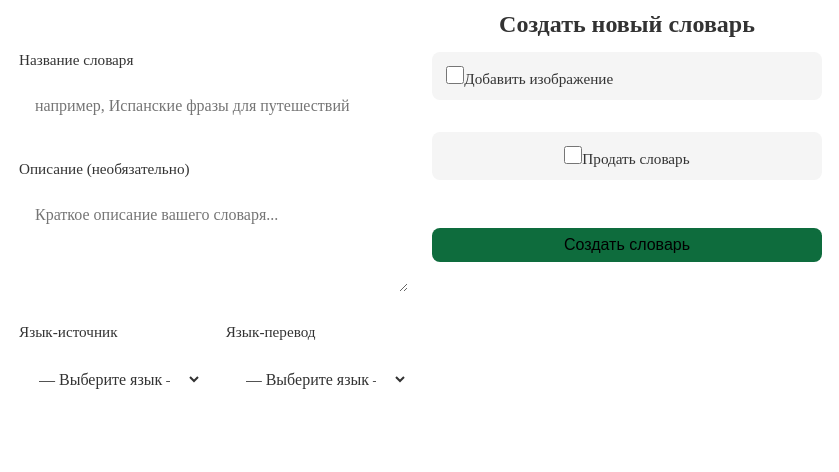
AddDict Component › очищает ошибки при изменении полей
Click the button "Создать словарь" at (627, 245), box [432,228,822,262]
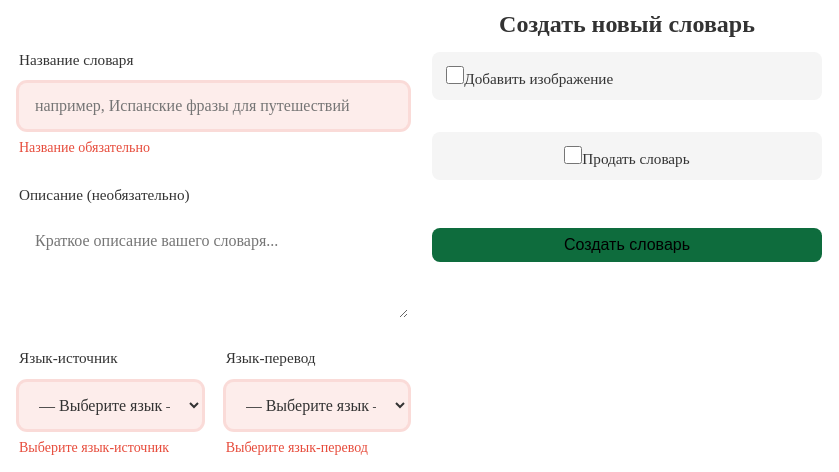
Expected: the text "Название обязательно" is shown, [19,140,150,155]
Type "Test Dictionary" into the field labelled "Название словаря" at (214, 106), box [19,83,408,129]
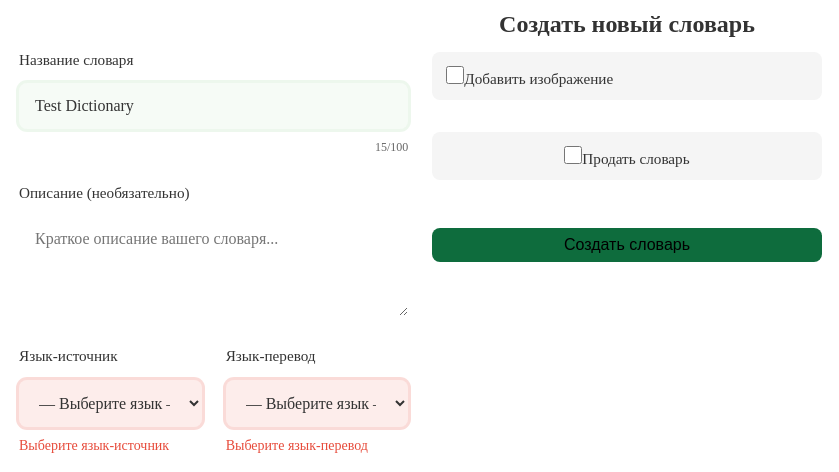
Expected: the text "Название обязательно" is gone
